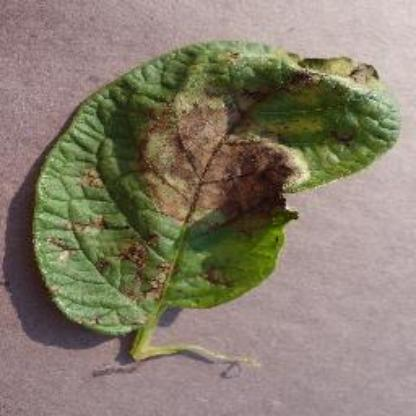Late-Blight: (23, 41, 398, 364)
